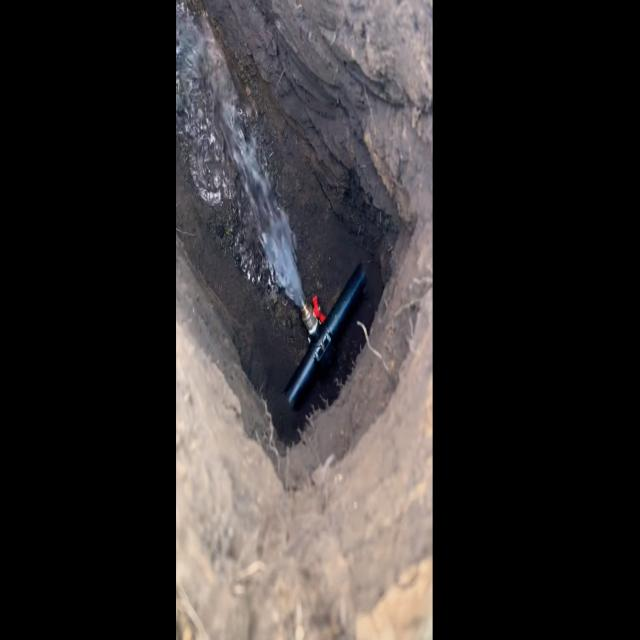leak: (176, 5, 306, 307)
